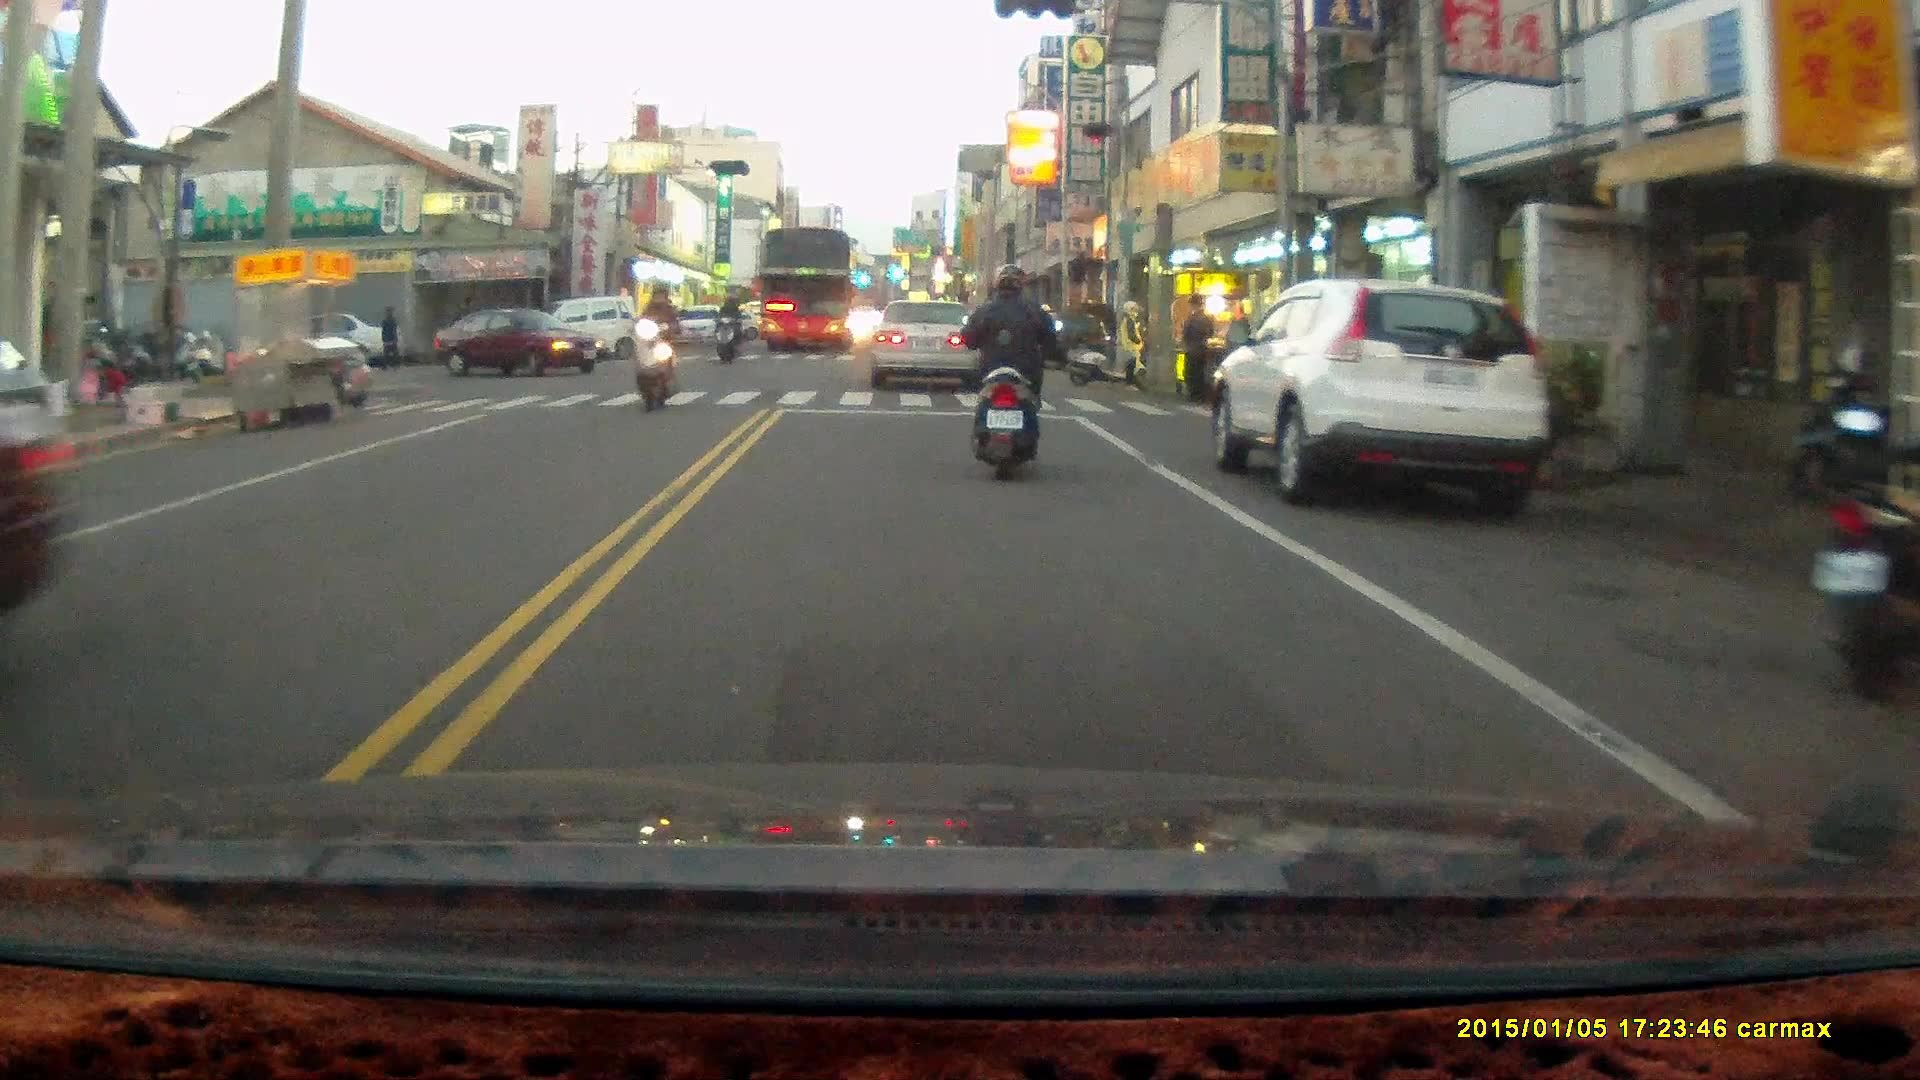pedestrian: (1181, 292, 1213, 404), (1117, 297, 1151, 392), (376, 302, 399, 369)
rider: (957, 260, 1059, 477), (625, 279, 679, 413), (714, 291, 739, 362)
vehicle: (1213, 278, 1550, 508), (1, 325, 65, 622), (748, 230, 861, 352), (442, 305, 602, 381), (869, 300, 980, 393)
